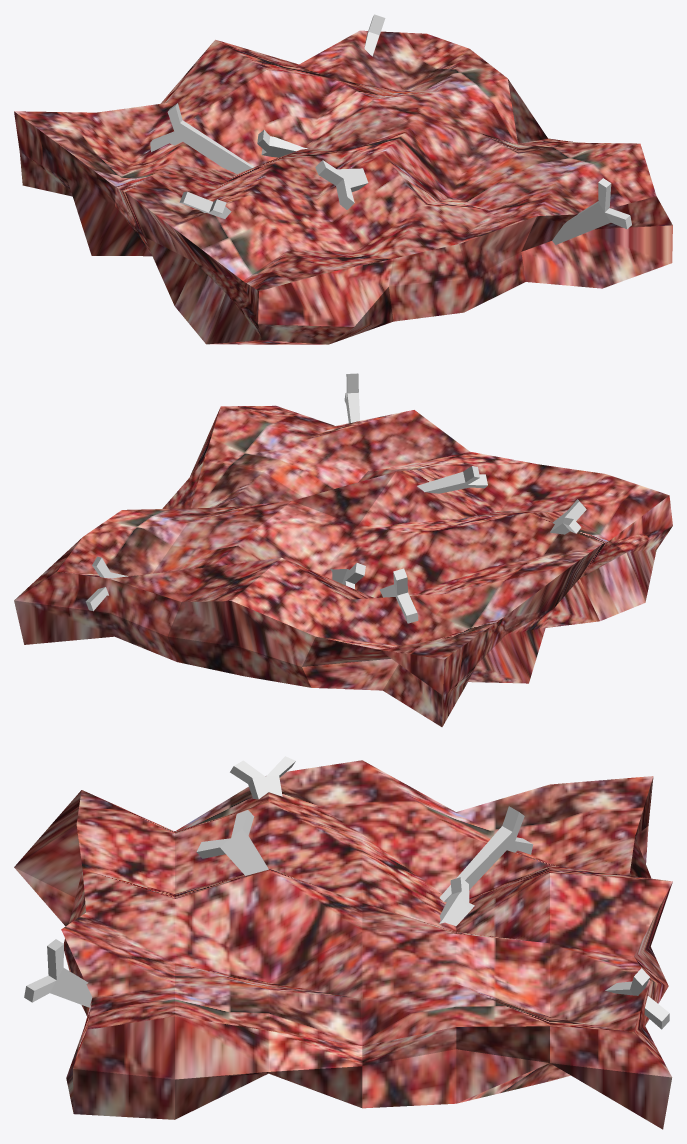
The model's file is Flesh.glb.
The picture shows the model from 3 angles, top to bottom: view 1: azimuth 30°, elevation 25°; view 2: azimuth 150°, elevation 25°; view 3: azimuth 270°, elevation 25°; orthographic projection. The views are drawn at different scales.
Parts seen in each view (by area): view 1: Flesh; view 2: Flesh; view 3: Flesh.
Part boxes in pixels (x1,y1,x2,y2): Flesh: [14, 14, 672, 344]; Flesh: [14, 373, 672, 726]; Flesh: [14, 756, 672, 1129].
Bounding box in the file's own units: 2.19 × 0.763 × 2.34.
1 material, 1 textured.
